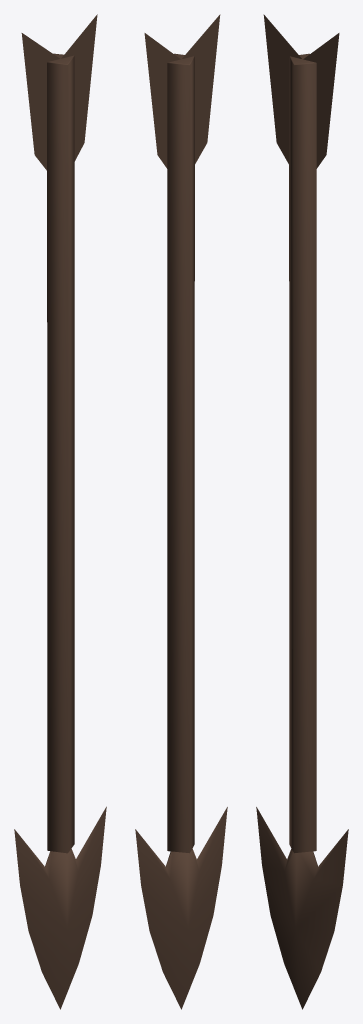
File: arrow.fbx
3 renders of one model, left to right at view 1: azimuth 30°, elevation 25°; view 2: azimuth 210°, elevation 25°; view 3: azimuth 330°, elevation 25°, orthographic.
Visible parts, largest first — view 1: weapon_bow_ShenMin02; view 2: weapon_bow_ShenMin02; view 3: weapon_bow_ShenMin02.
Boxes of the visible parts, x1=… form: weapon_bow_ShenMin02: x1=14, y1=14, x2=106, y2=1009; weapon_bow_ShenMin02: x1=135, y1=14, x2=227, y2=1009; weapon_bow_ShenMin02: x1=256, y1=14, x2=348, y2=1009.
Size of the model in its own units: 0.5751 by 5.86 by 0.1695.
